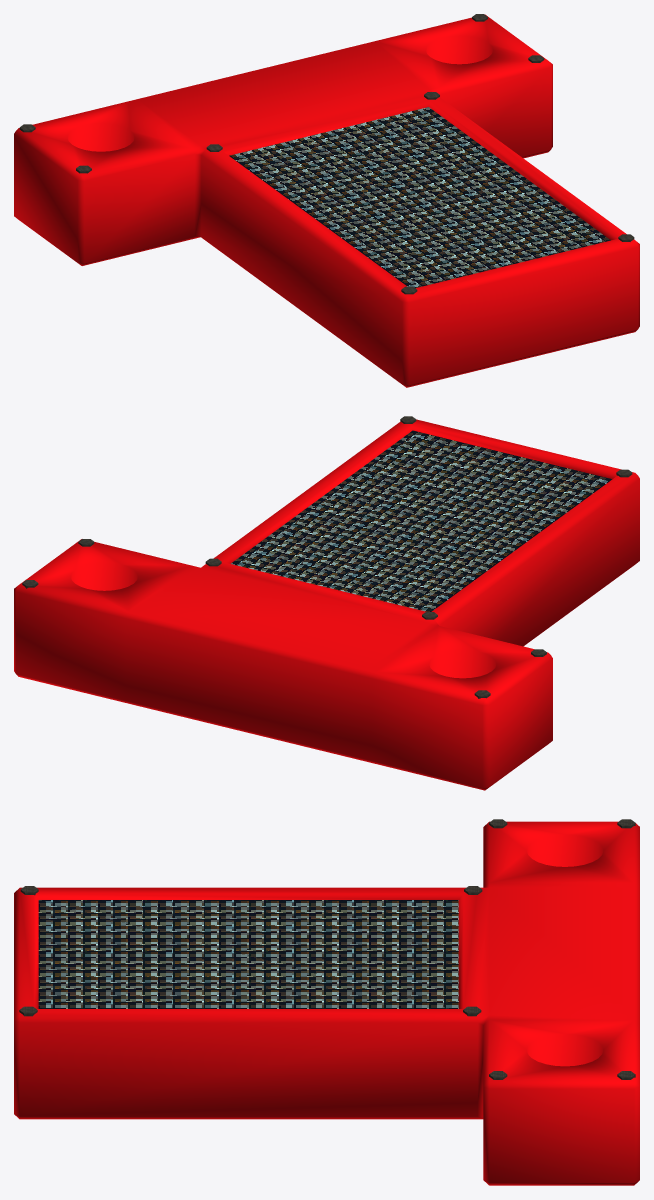
The model's file is ToyBossLaunchStep.fbx.
The picture shows the model from 3 angles, top to bottom: view 1: azimuth 30°, elevation 25°; view 2: azimuth 150°, elevation 25°; view 3: azimuth 270°, elevation 25°; orthographic projection. The views are drawn at different scales.
Parts seen in each view (by area): view 1: Circle, Circle.002, Circle.001; view 2: Circle, Circle.002, Circle.001; view 3: Circle, Circle.002, Circle.001.
Boxes of the visible parts, x1,y1,x2,y2 form: Circle: (14,14,639,387); Circle.002: (229,107,610,288); Circle.001: (19,14,634,294); Circle: (14,419,639,790); Circle.002: (231,430,612,611); Circle.001: (22,416,632,698); Circle: (14,821,639,1185); Circle.002: (38,900,458,1008); Circle.001: (19,819,635,1079).
Bounding box in the file's own units: 120000 × 22533 × 120000.
Materials: 3 (3 with a texture image).
